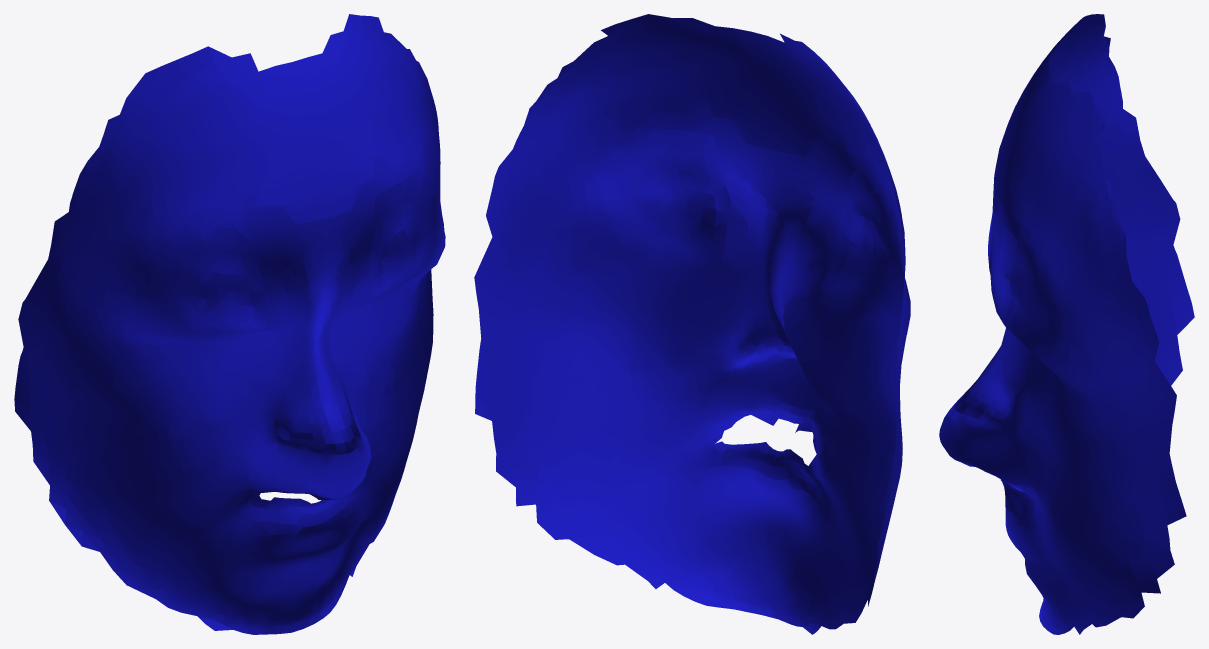
Rendered from threhold_o.obj.
3 renders of one model, left to right at view 1: azimuth 30°, elevation 25°; view 2: azimuth 150°, elevation 25°; view 3: azimuth 270°, elevation 25°, orthographic. The views are drawn at different scales.
Bounding box in the file's own units: 137 × 187 × 76.25.
